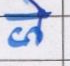o_matra: (32, 0, 46, 43)
